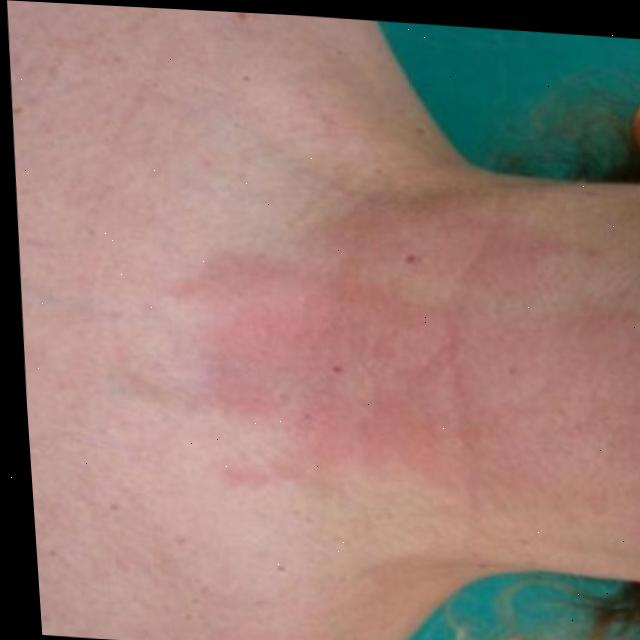Eczema: (197, 175, 556, 493)
